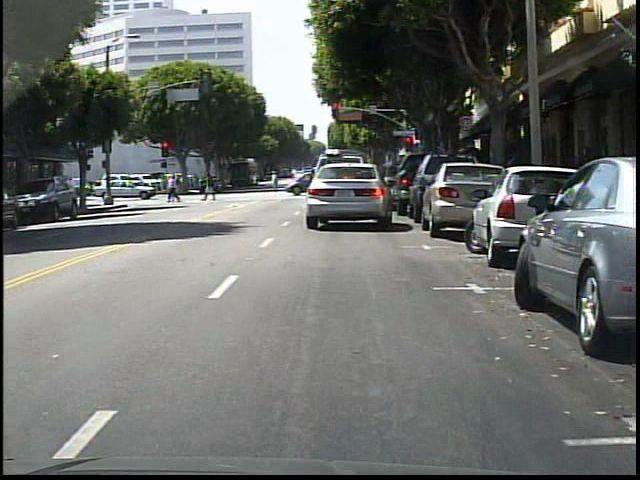person: (204, 172, 219, 201), (168, 174, 182, 202), (271, 170, 279, 191)
